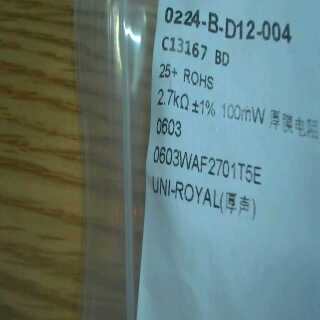2.7kR: (156, 83, 193, 114)
